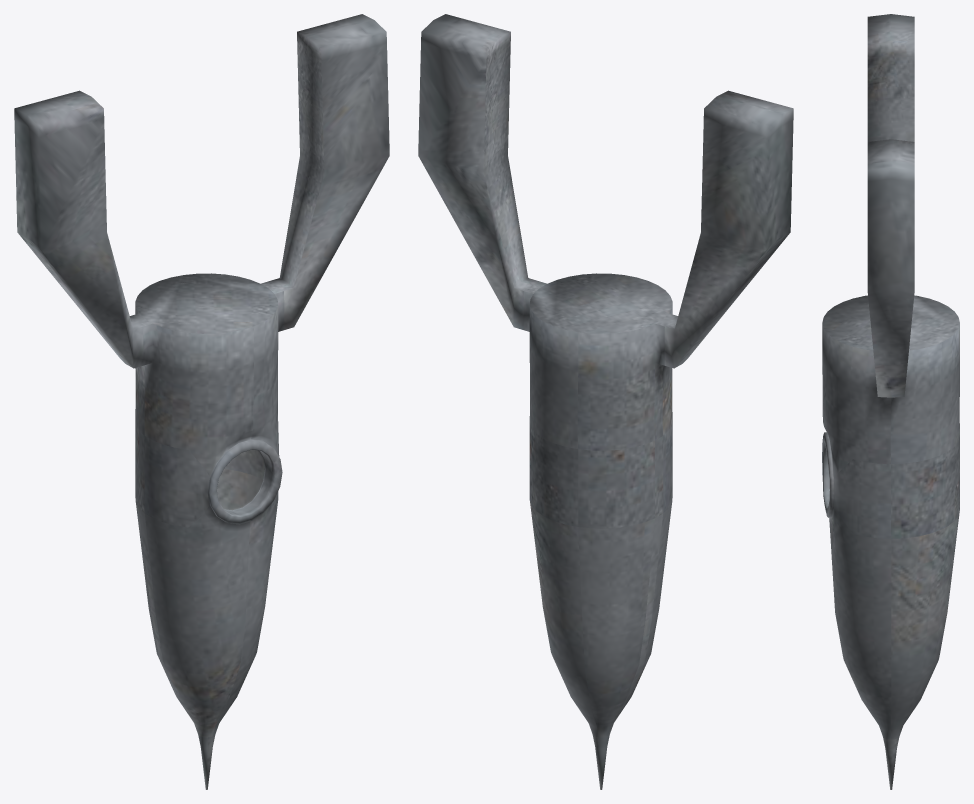
File: rocket.fbx
The picture shows the model from 3 angles, left to right: view 1: azimuth 30°, elevation 25°; view 2: azimuth 150°, elevation 25°; view 3: azimuth 270°, elevation 25°; orthographic projection. The views are drawn at different scales.
Parts seen in each view (by area): view 1: Cylinder.001; view 2: Cylinder.001; view 3: Cylinder.001.
Part boxes in pixels (bbox=[...]): Cylinder.001: bbox=[14, 14, 389, 789]; Cylinder.001: bbox=[418, 14, 793, 789]; Cylinder.001: bbox=[822, 14, 959, 789].
Bounding box in the file's own units: 913 × 1810 × 323.
Materials: 3 (2 with a texture image).
